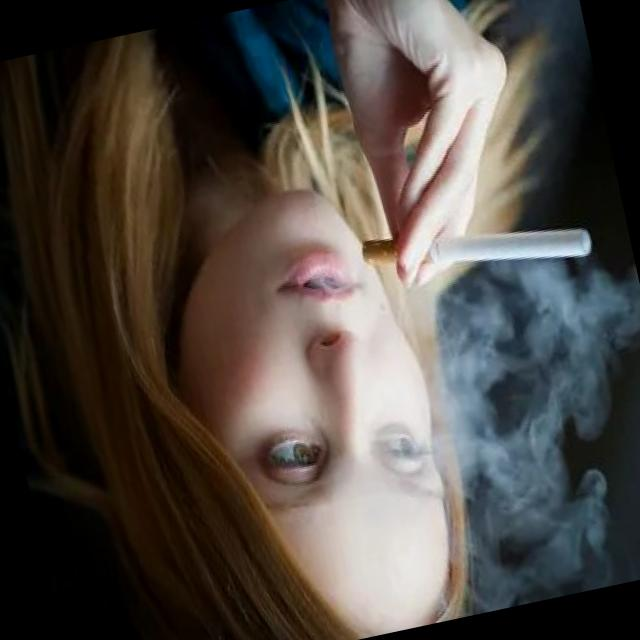smoke: (354, 188, 596, 308)
